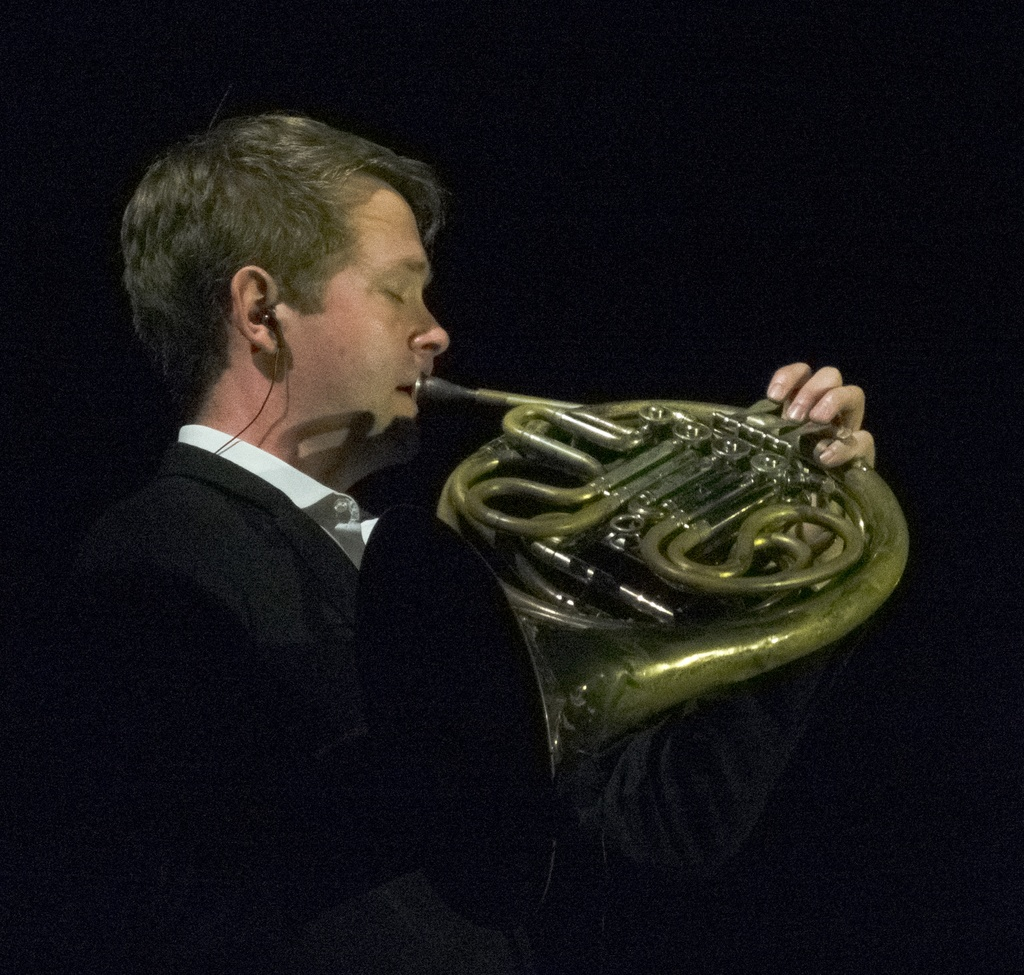Person: (0, 94, 879, 975)
